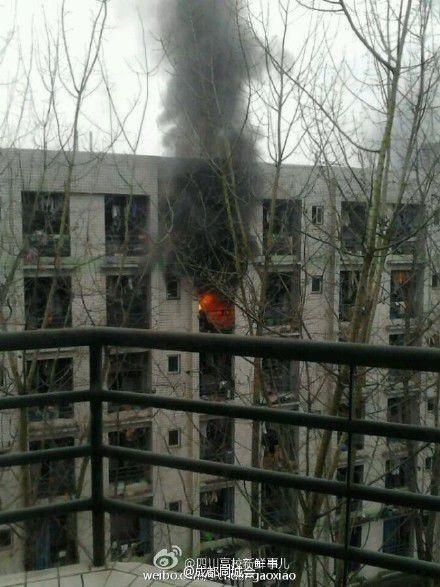fire: (196, 291, 229, 321)
